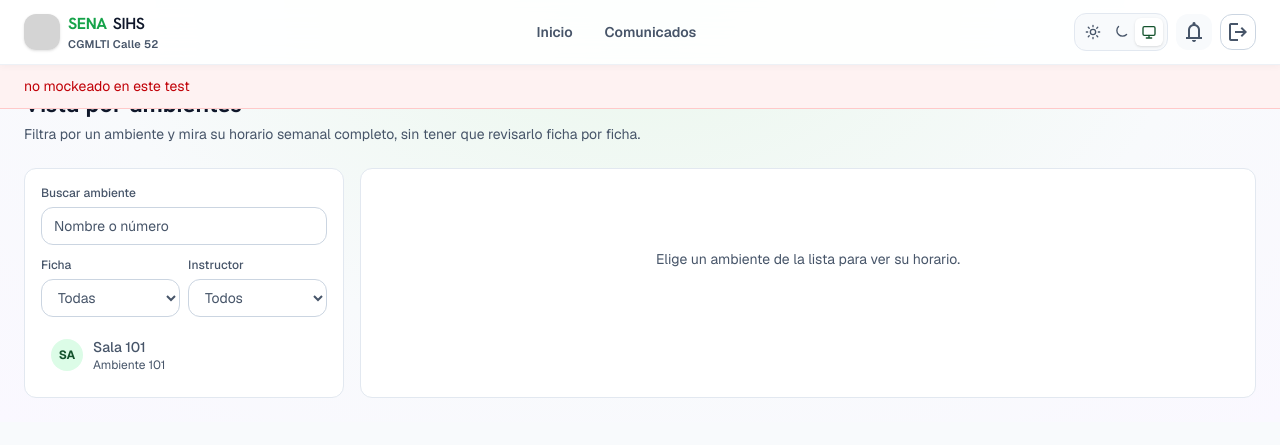
VistaAmbientes › ambiente sin horario asignado muestra el mensaje correspondiente
Click the text "Sala 101".
click(119, 347)  # box 93,338 -> 146,356
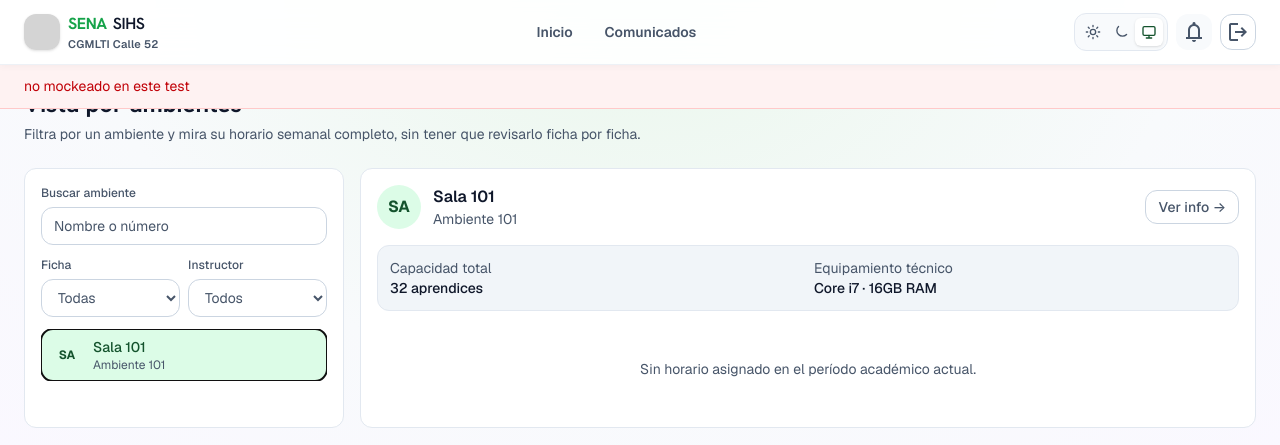
expect the text "Sin horario asignado en el período académico actual." is shown: met, box 640,360 -> 976,378
